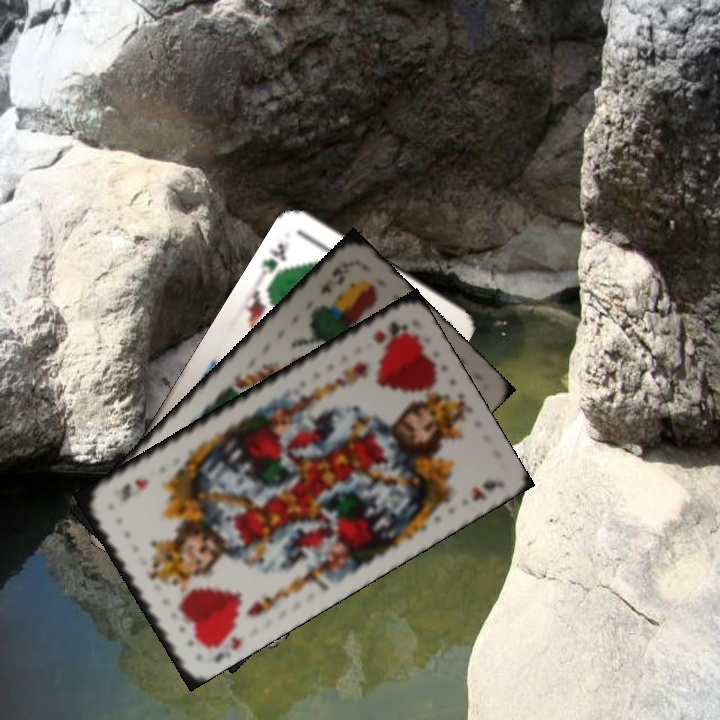EK: (316, 265, 351, 298)
GK: (256, 239, 289, 277)
HK: (209, 632, 245, 666), (369, 317, 411, 346)
